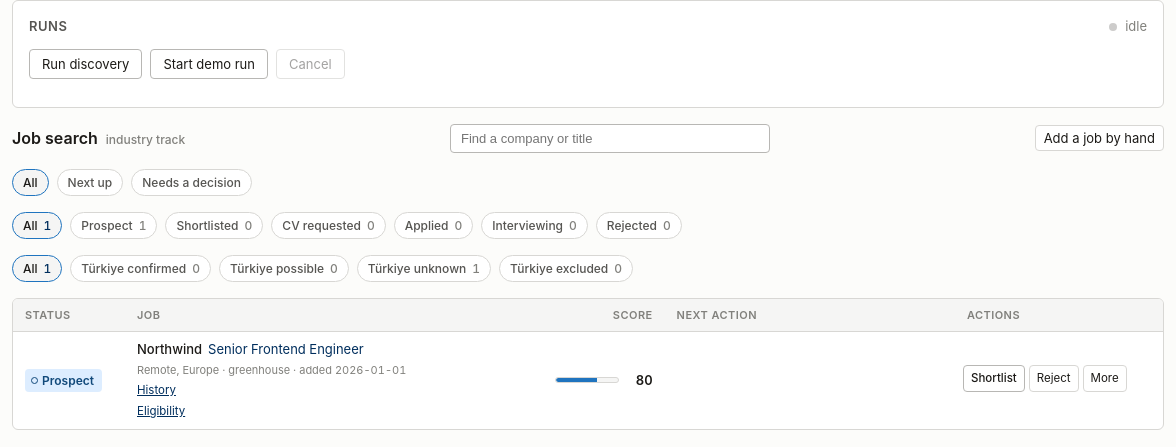
Scenario: a refusal is shown in the words the API used
What coordinates should you click on to do the following:
click the button "Shortlist"
I would click on:
 (994, 378)
Its box is [963,365,1025,392].
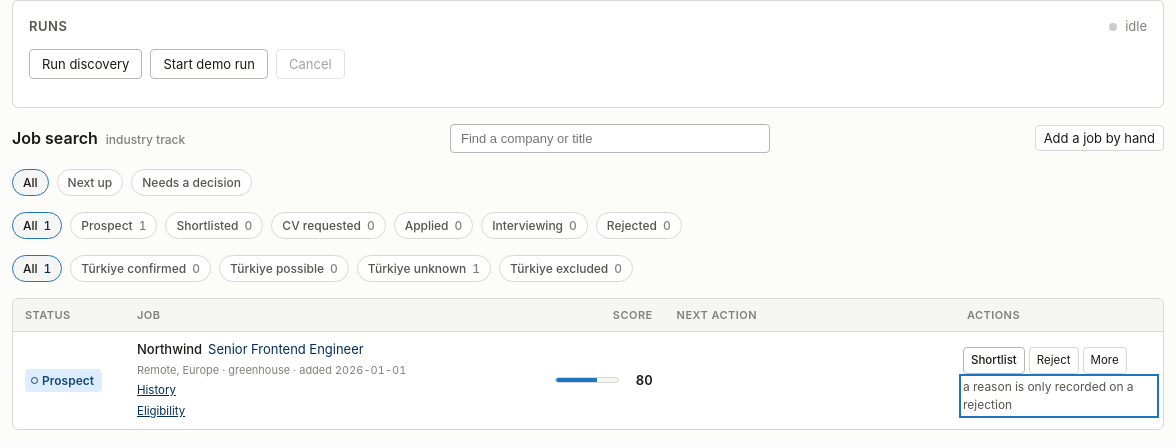
expect the text "a reason is only recorded on a rejection" is shown: met, box [963,378,1155,414]
